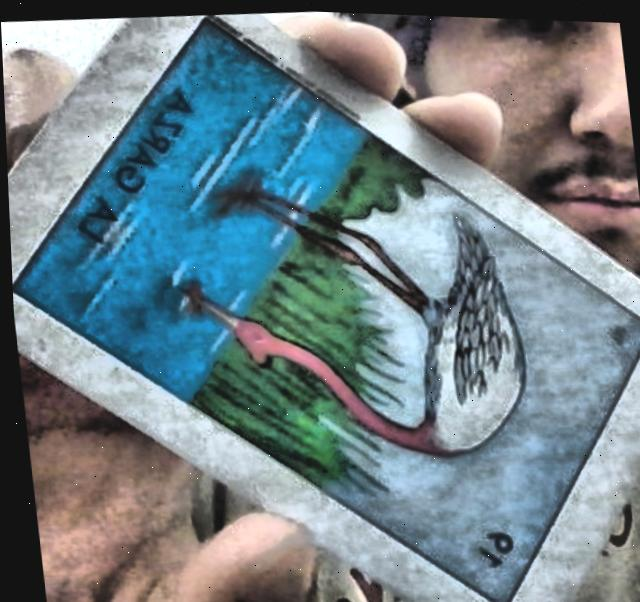El Garza: (10, 16, 640, 602)
